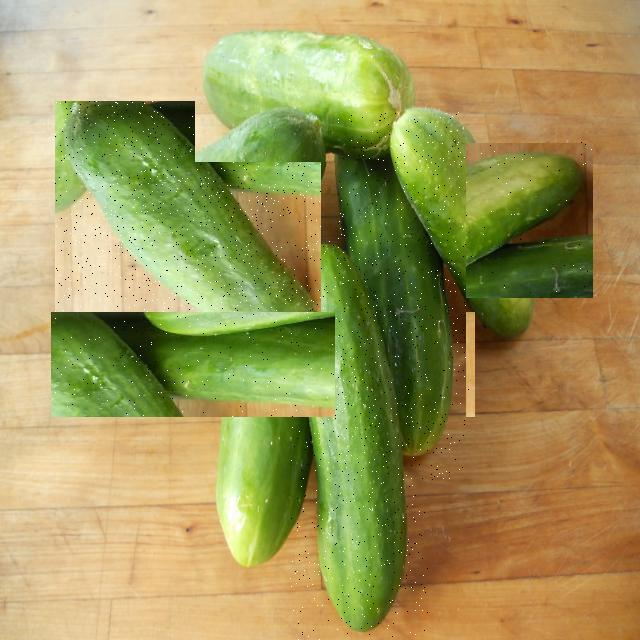Cucumber: (313, 245, 408, 631), (339, 149, 450, 453)
